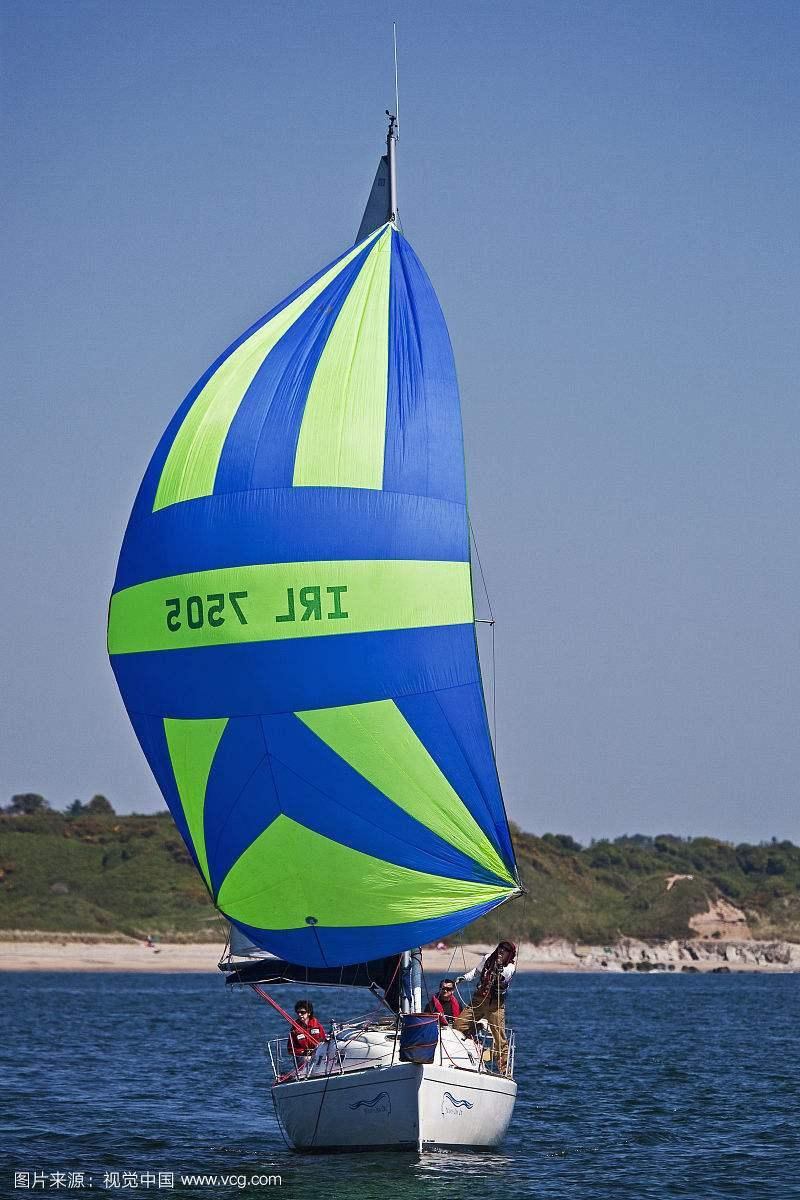fanchuan: (101, 23, 556, 1153)
